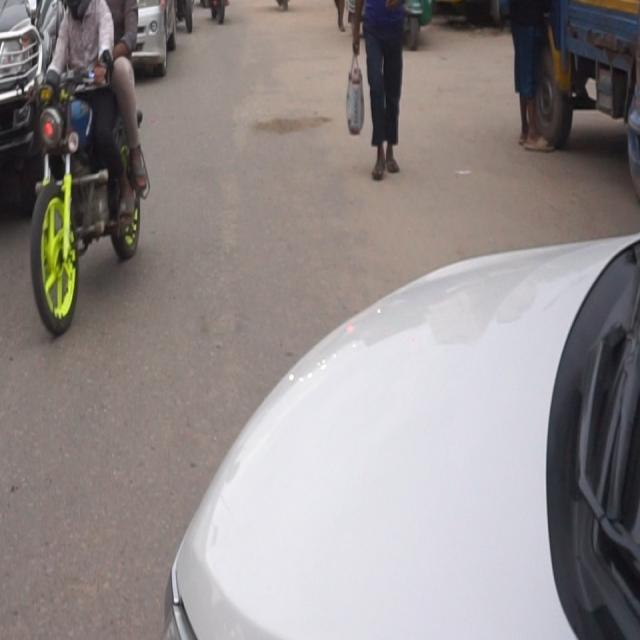car: (0, 0, 51, 251), (65, 0, 193, 88)
motorbike: (21, 28, 157, 364), (202, 0, 235, 30), (261, 0, 303, 21)
